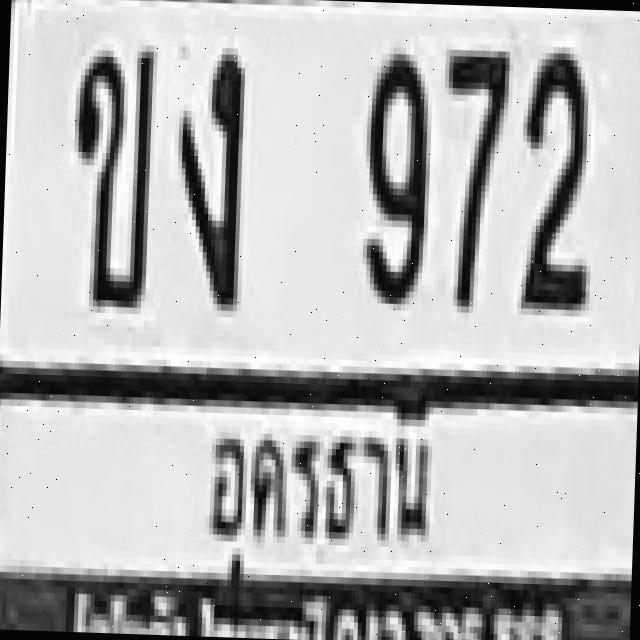11KhorKhai: (64, 42, 154, 301)
16NgorNgu: (168, 46, 242, 304)
2: (516, 45, 590, 304)
7: (436, 42, 509, 308)
9: (356, 46, 429, 298)
UdonThani: (175, 396, 452, 592)
